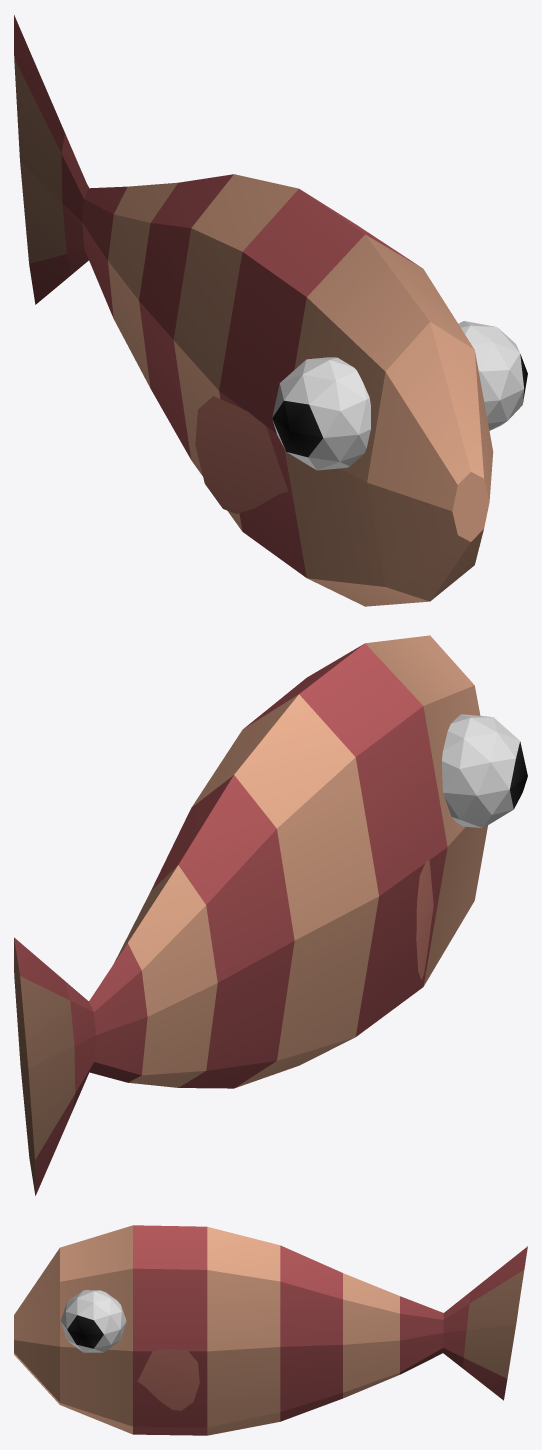
Rendered from small_fish.glb.
3 views of the same model, one above another, from view 1: azimuth 30°, elevation 25°; view 2: azimuth 150°, elevation 25°; view 3: azimuth 270°, elevation 25° (orthographic). The views are drawn at different scales.
Parts seen in each view (by area): view 1: smallfish_merged; view 2: smallfish_merged; view 3: smallfish_merged.
Part boxes in pixels (<box>): smallfish_merged: <box>14,15,527,606</box>; smallfish_merged: <box>14,635,527,1195</box>; smallfish_merged: <box>14,1225,527,1435</box>.
Bounding box in the file's own units: 1.01 × 1.52 × 3.37.
3 materials, 3 textured.
